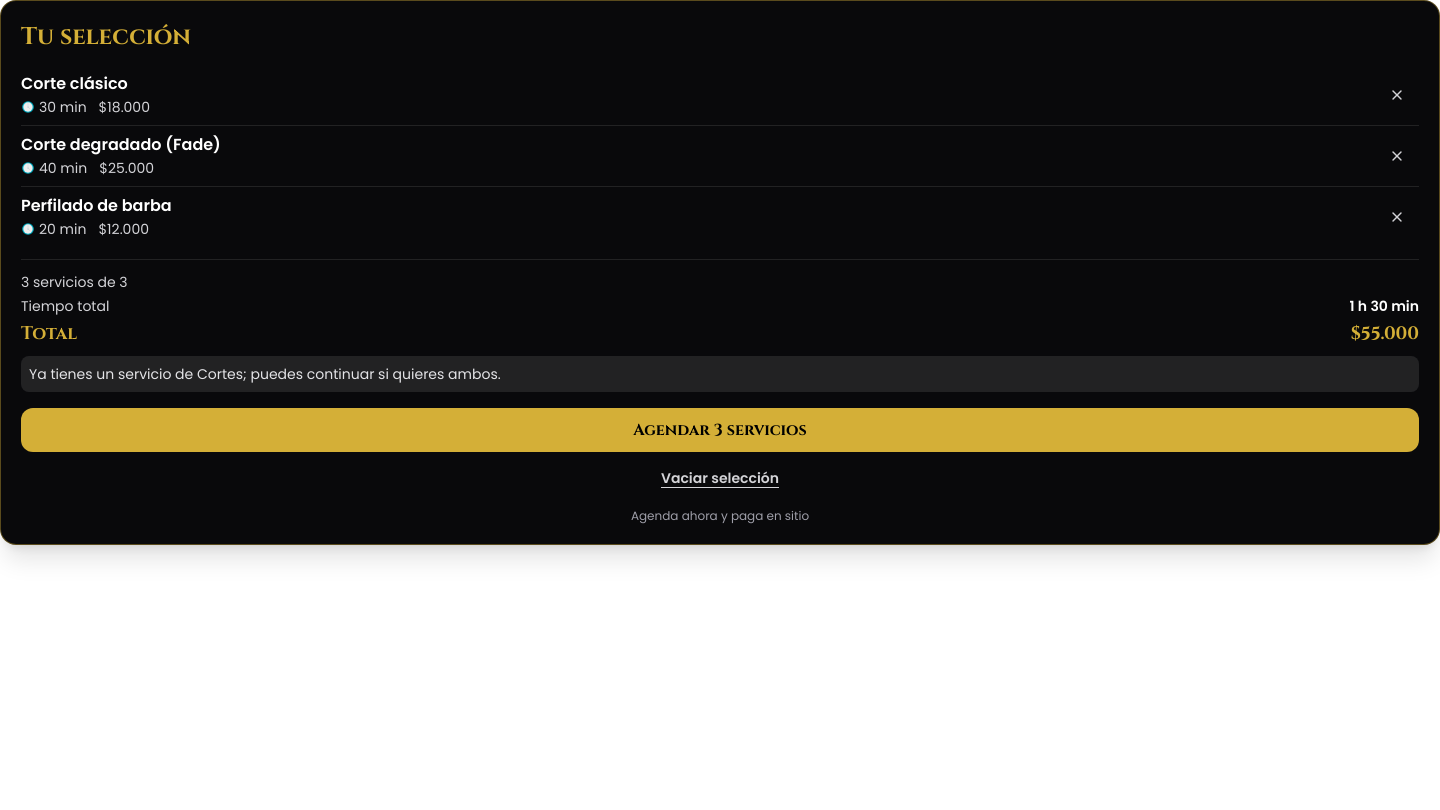
Test: Carrito "Tu selección": escritorio (aside) › "Quitar" saca un servicio y "Vaciar selección" los quita todos
Expected: the text "Perfilado de barba" is shown, [21, 194, 172, 217]
Click the button named "Quitar Corte clásico de mi selección": (1397,95) [1375, 73, 1419, 117]
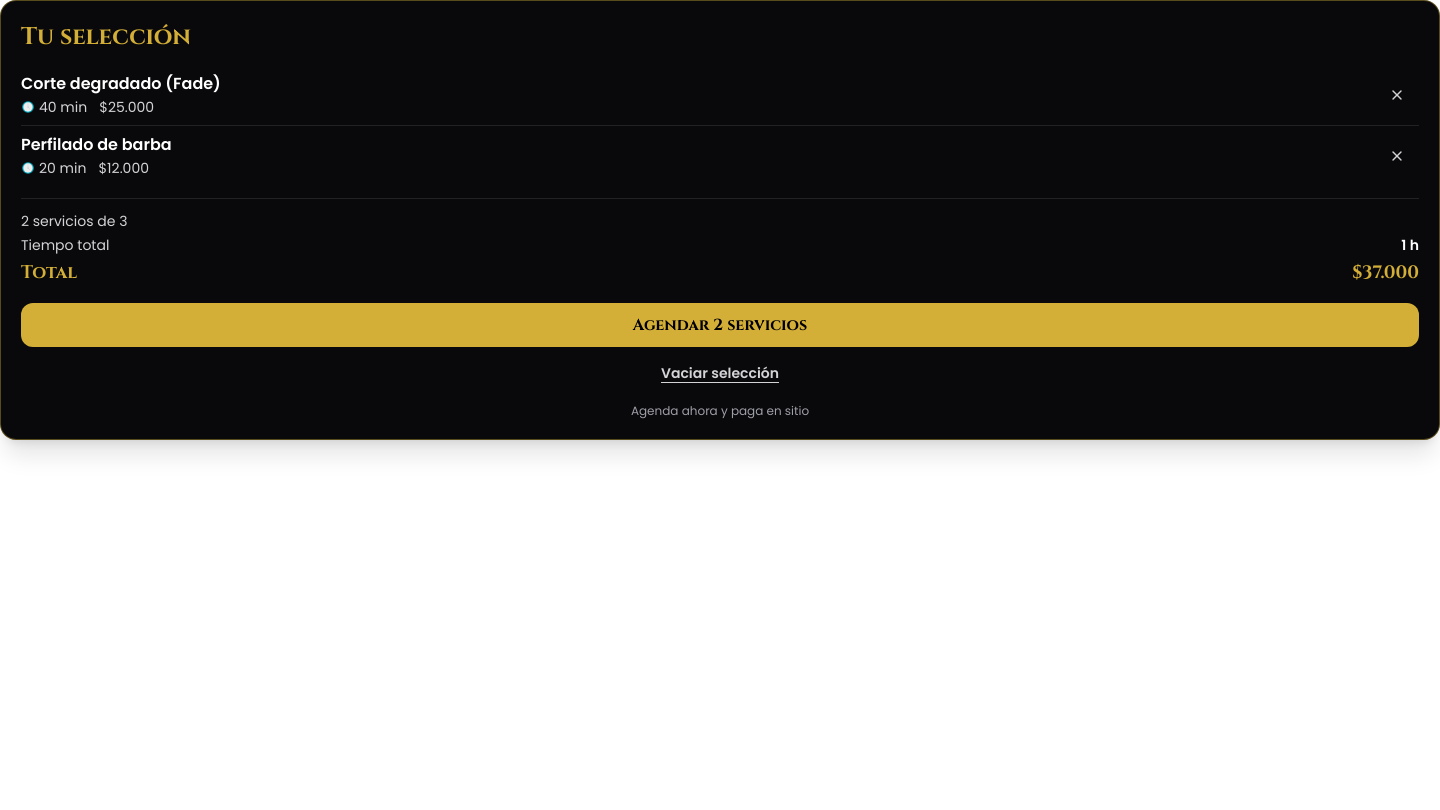
Result: the text "Corte clásico" is gone
Click the button "Vaciar selección": (720,373) [649, 351, 791, 395]
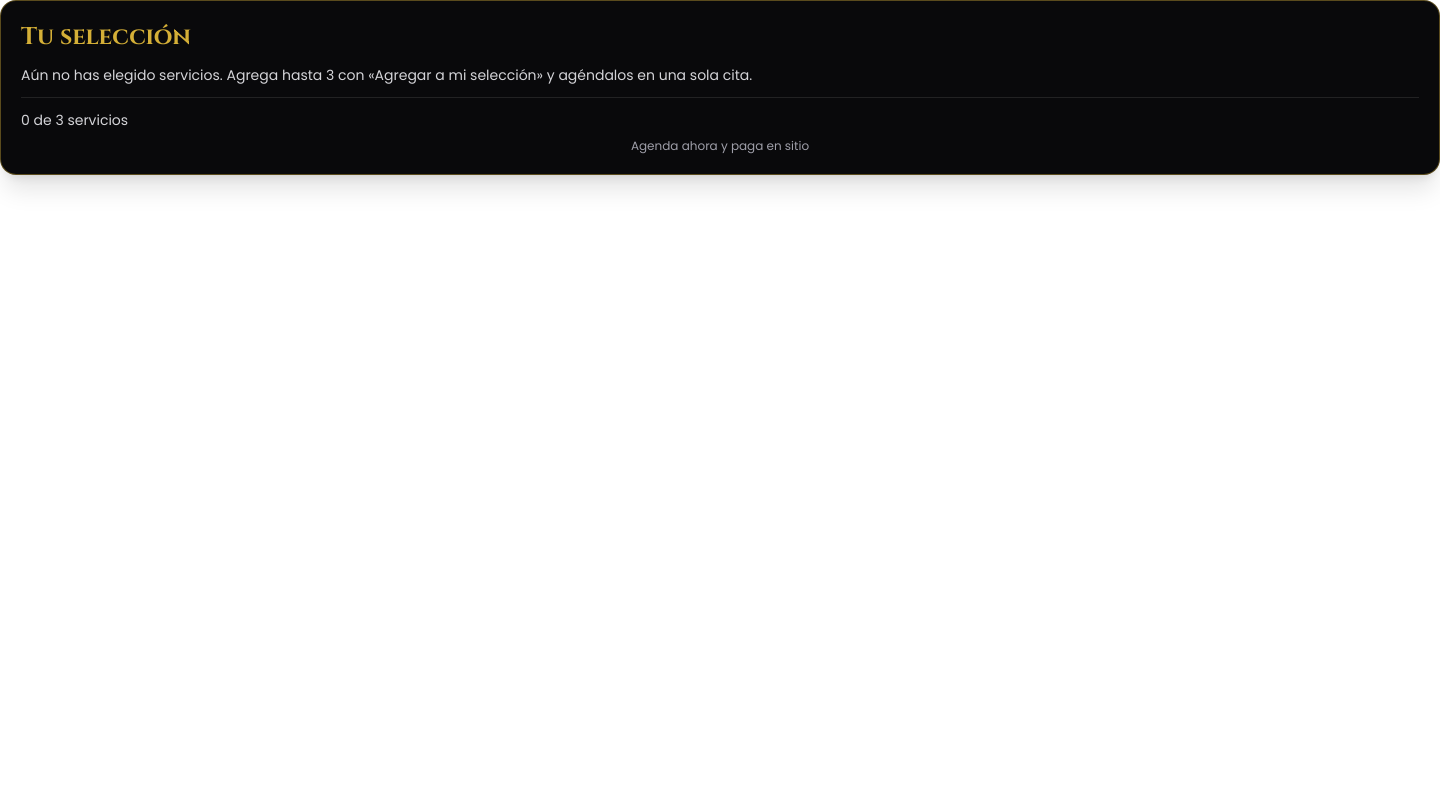
Result: the text "Aún no has elegido servicios" is shown at [21, 65, 326, 85]
